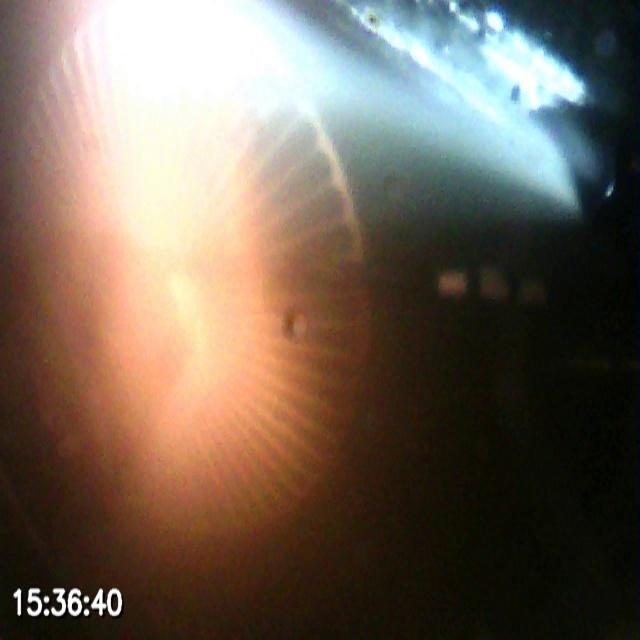white-dots: (436, 267, 550, 309)
